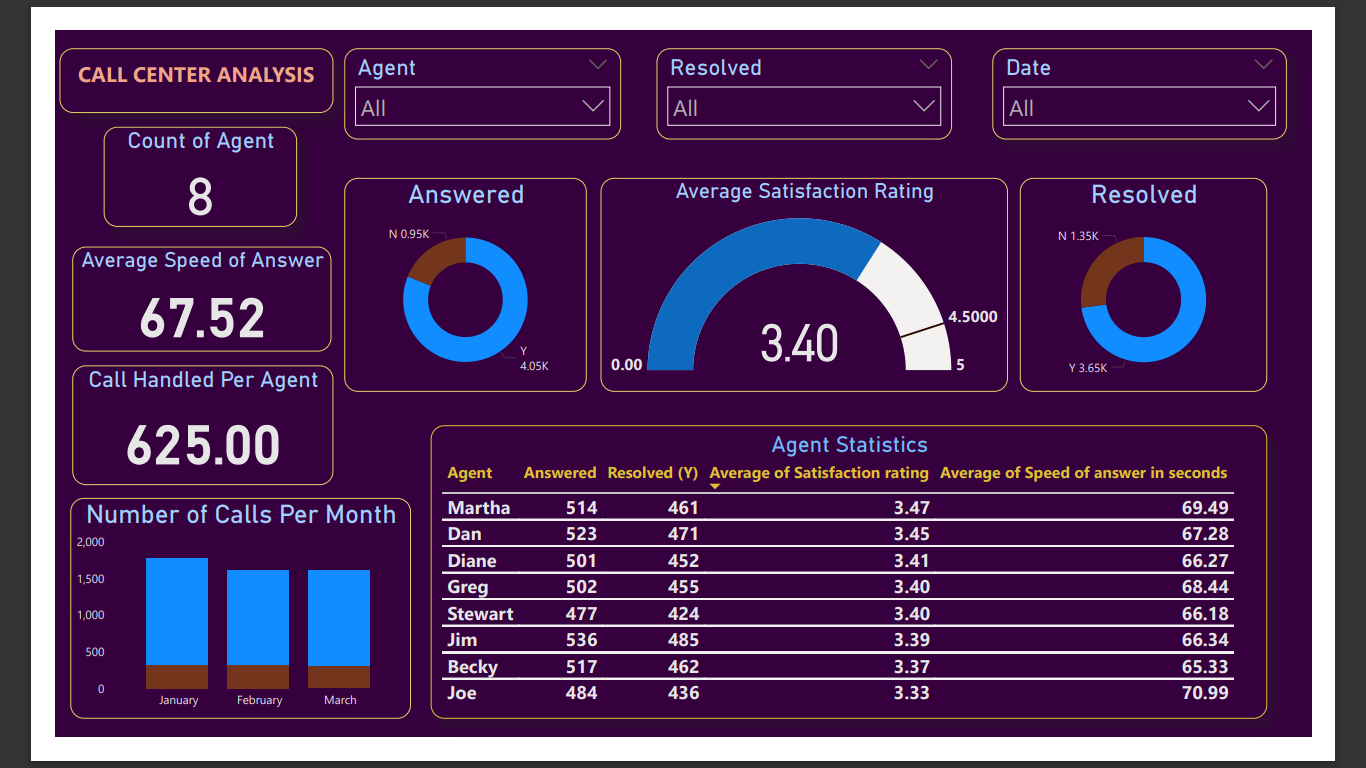

What the dashboard file says about the page in this screenshot:
{"tool":"powerbi","page":{"name":"Page 1","canvas":[1280,720],"ordinal":0},"visuals":[{"type":"gauge","title":"Average Satisfaction Rating","fields":{"Y":["Sheet1.Satisfaction rating"],"MaxValue":["Sum(Sheet1.Satisfaction rating)1"]},"box":[556,150.2,414.7,218.1],"z":0},{"type":"donutChart","title":"Answered","fields":{"Category":["Sheet1.Answered (Y/N)"],"Y":["Sheet1.Answered (Y/N)"]},"box":[295.4,149.8,246.9,218.3],"z":1000},{"type":"slicer","fields":{"Values":["Sheet1.Agent"]},"box":[295,17.9,282.5,93],"z":2000},{"type":"donutChart","title":"Resolved","fields":{"Category":["Sheet1.Resolved"],"Y":["Sheet1.Resolved"]},"box":[983.2,150.2,252.1,218.1],"z":3000},{"type":"card","title":"Average Speed of Answer","fields":{"Values":["Sheet1.Speed of answer in seconds"]},"box":[17.9,219.9,264.6,107.3],"z":4000},{"type":"columnChart","title":"Number of Calls Per Month","fields":{"Category":["Sheet1.Date.Variation.Date Hierarchy.Month"],"Y":["Sheet1.Answered (Y/N)"],"Series":["Sheet1.Answered (Y/N)"]},"box":[16.1,475.5,346.8,225.3],"z":5000},{"type":"tableEx","title":"Agent Statistics","fields":{"Values":["Sheet1.Agent","Measure.Answered","Measure.Resolved (Y)","Sheet1.Satisfaction rating","Sheet1.Speed of answer in seconds"]},"box":[382.6,402.2,852.7,298.5],"z":6000},{"type":"card","title":"Count of Agent","fields":{"Values":["Sheet1.Agent"]},"box":[50.1,98.3,196.6,101.9],"z":7000},{"type":"card","title":"Call Handled Per Agent","fields":{"Values":["Measure.Call handled per Agent"]},"box":[17.9,341.5,266.4,121.6],"z":8000},{"type":"slicer","title":"DATE","fields":{"Values":["Sheet1.Date"]},"box":[954.6,17.9,300.3,93],"z":9000},{"type":"slicer","fields":{"Values":["Sheet1.Resolved"]},"box":[613.2,17.9,300.3,93],"z":10000},{"type":"textbox","box":[5.4,17.9,278.9,66.1],"z":11000}]}

Visuals, with their boxes in screenshot pixels (x1, y1, x2, y2), scaled from the page's 1280x720 canvas onto the 1366x768 screenshot:
"Average Satisfaction Rating" gauge: <region>593, 160, 1036, 393</region>
"Answered" donutChart: <region>315, 160, 579, 393</region>
slicer - Sheet1.Agent: <region>315, 19, 616, 118</region>
"Resolved" donutChart: <region>1049, 160, 1318, 393</region>
"Average Speed of Answer" card: <region>19, 235, 301, 349</region>
"Number of Calls Per Month" columnChart: <region>17, 507, 387, 748</region>
"Agent Statistics" tableEx: <region>408, 429, 1318, 747</region>
"Count of Agent" card: <region>53, 105, 263, 214</region>
"Call Handled Per Agent" card: <region>19, 364, 303, 494</region>
"DATE" slicer: <region>1019, 19, 1339, 118</region>
slicer - Sheet1.Resolved: <region>654, 19, 975, 118</region>
textbox: <region>6, 19, 303, 90</region>
